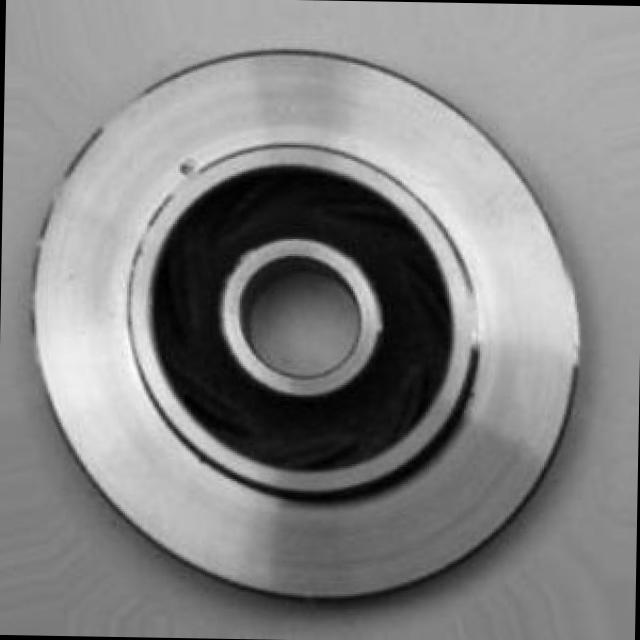Defect: (177, 156, 198, 180)
